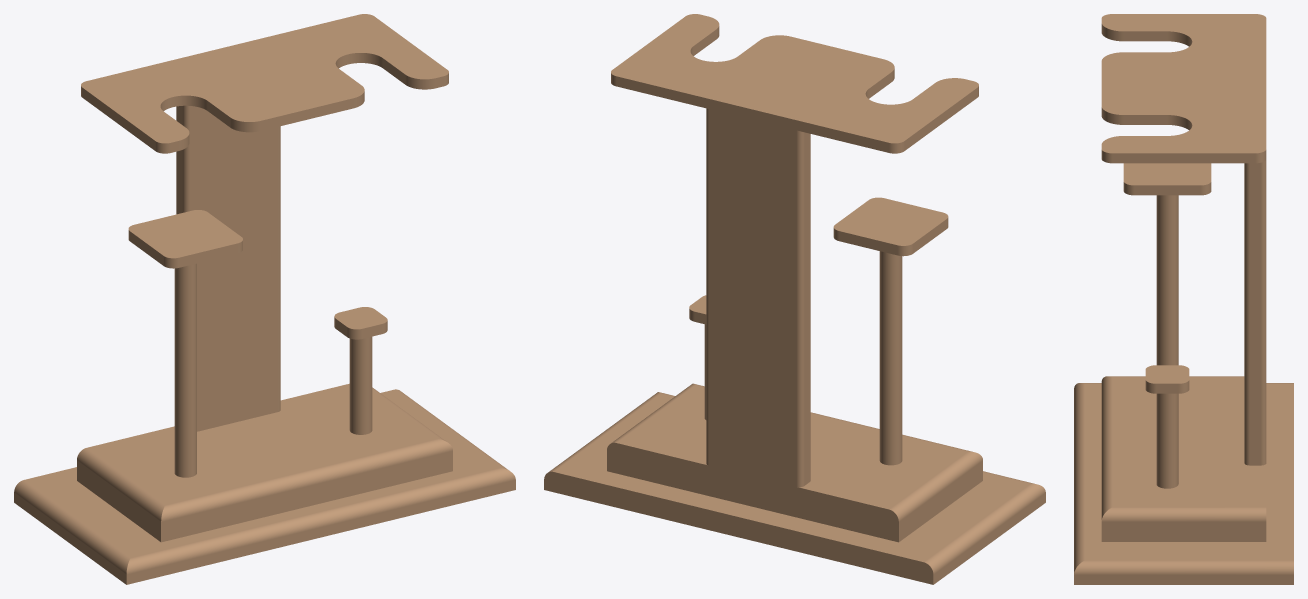
The model's file is executor_bracket.dae.
The picture shows the model from 3 angles, left to right: view 1: azimuth 30°, elevation 25°; view 2: azimuth 150°, elevation 25°; view 3: azimuth 270°, elevation 25°; orthographic projection. The views are drawn at different scales.
Visible parts, largest first — view 1: node0; view 2: node0; view 3: node0.
Boxes of the visible parts, bbox=[...] form: node0: bbox=[14, 14, 515, 584]; node0: bbox=[544, 14, 1045, 584]; node0: bbox=[1074, 14, 1293, 584].
Size of the model in its own units: 0.4 by 0.2 by 0.41.
